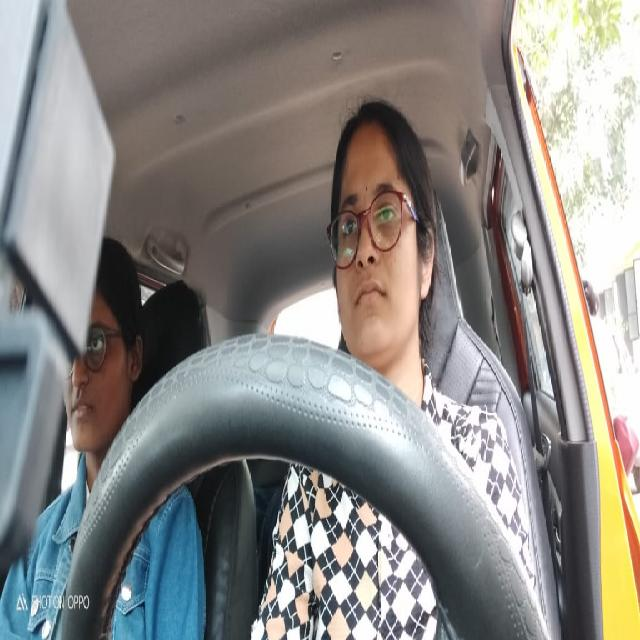person: (328, 113, 432, 355), (60, 237, 141, 458)
